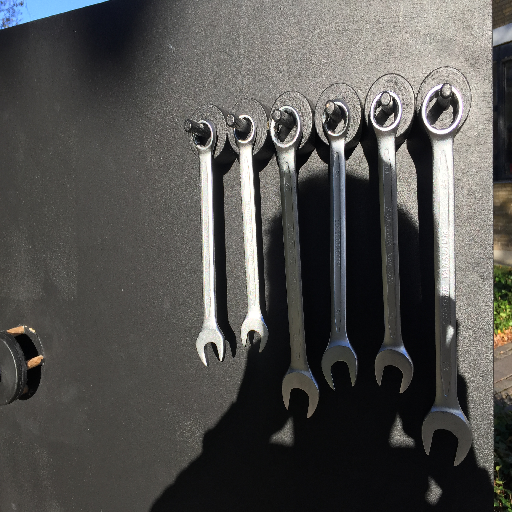bottom: (421, 406, 475, 468), (318, 341, 361, 392), (280, 367, 321, 419), (374, 345, 415, 397), (194, 325, 227, 367), (239, 312, 270, 355)
top: (420, 84, 463, 140), (269, 104, 304, 153), (367, 90, 404, 136), (320, 99, 353, 140), (188, 117, 219, 153), (231, 113, 257, 148)
